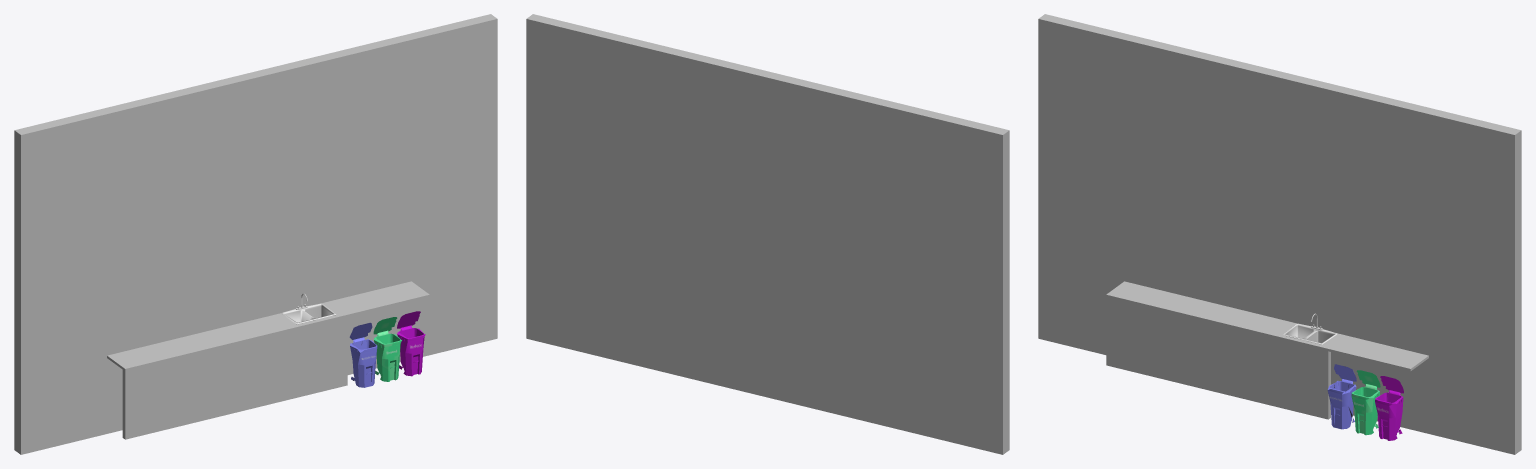
Rendered from kitchen.fbx.
3 renders of one model, left to right at view 1: azimuth 30°, elevation 25°; view 2: azimuth 150°, elevation 25°; view 3: azimuth 330°, elevation 25°, orthographic.
Visible parts, largest first — view 1: kitchen1; view 2: kitchen1; view 3: kitchen1.
Part boxes in pixels (x1,y1,x2,y2): kitchen1: (14, 14, 497, 454); kitchen1: (526, 14, 1009, 454); kitchen1: (1038, 14, 1521, 454).
Bounding box in the file's own units: 9.55 × 6.13 × 1.12.
